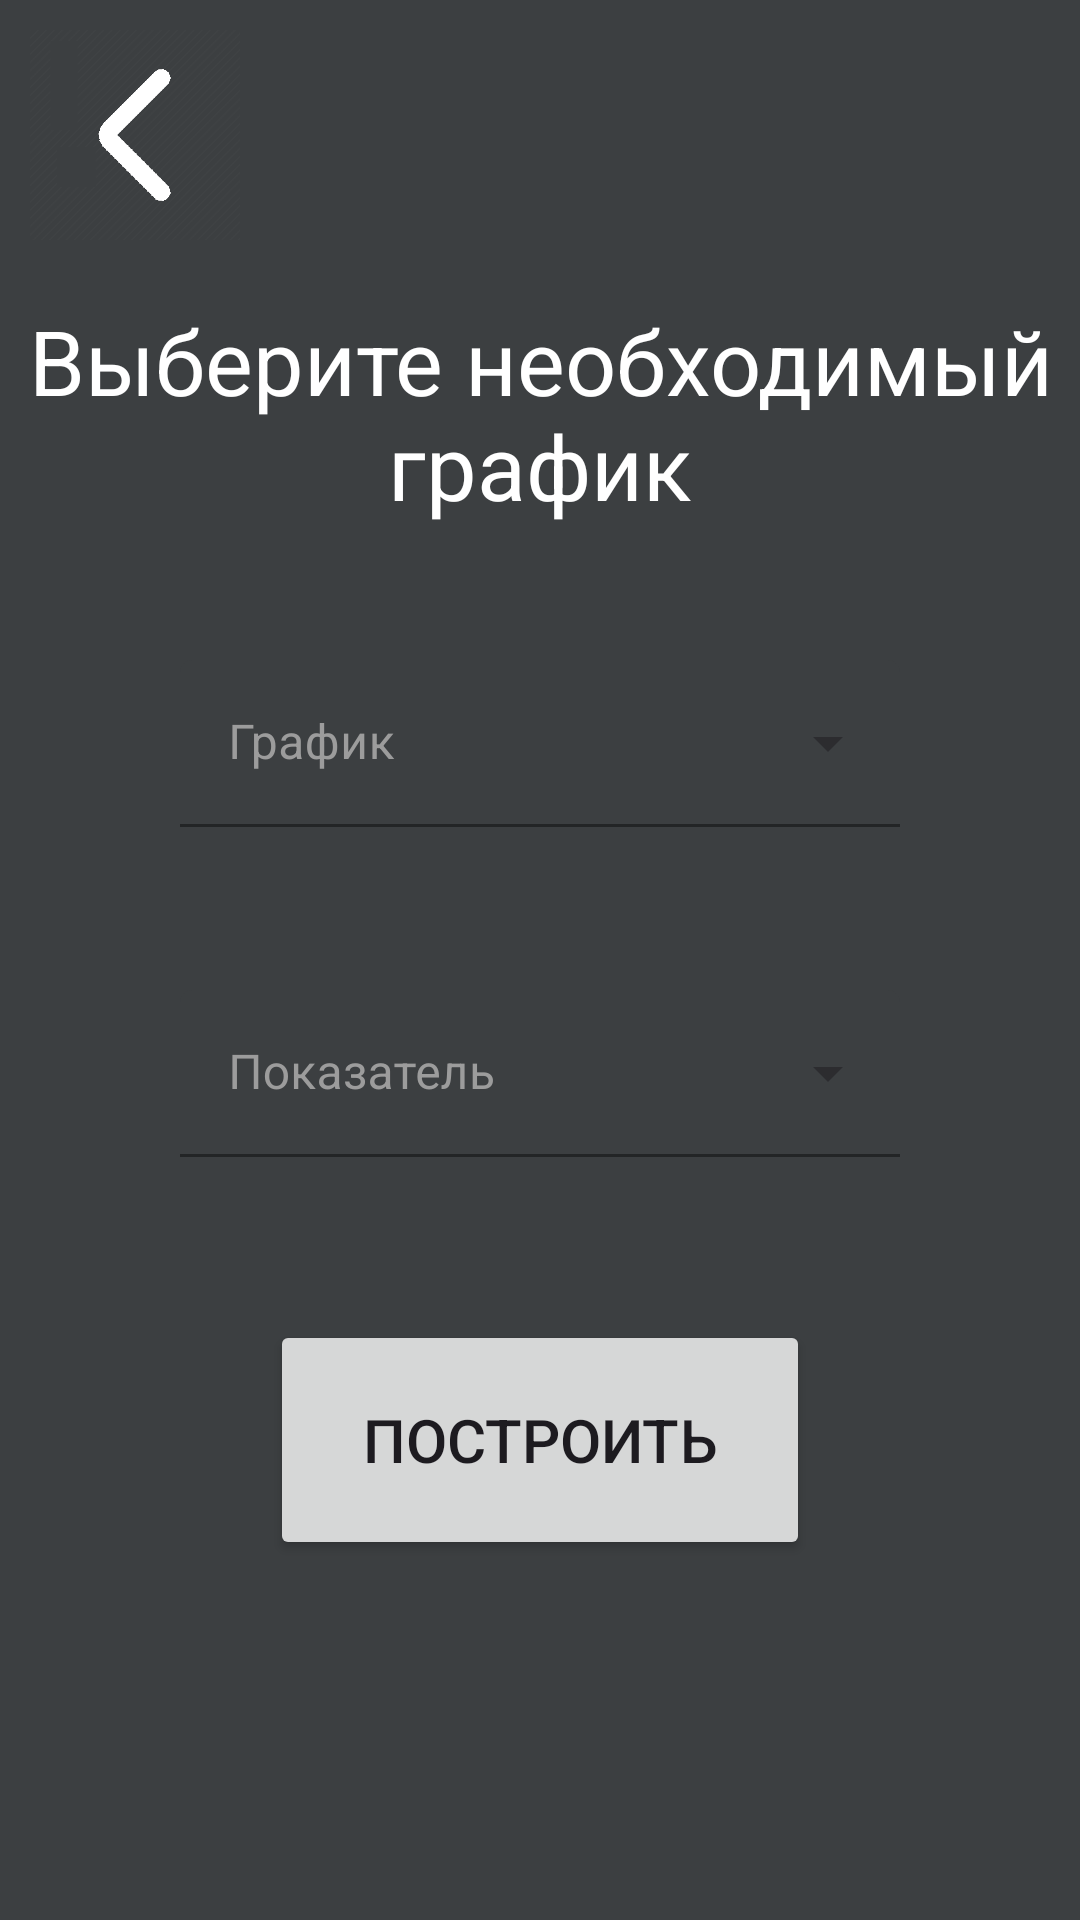

Screen size 1080x1920. Icon name, then its box in pixels as (x1, y1, x2, y2):
arrow: (98, 69, 171, 201)
